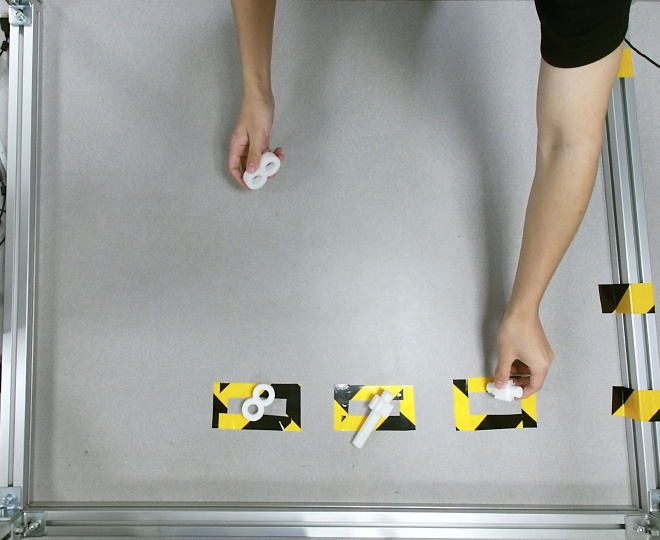stage_1: (243, 151, 281, 190)
